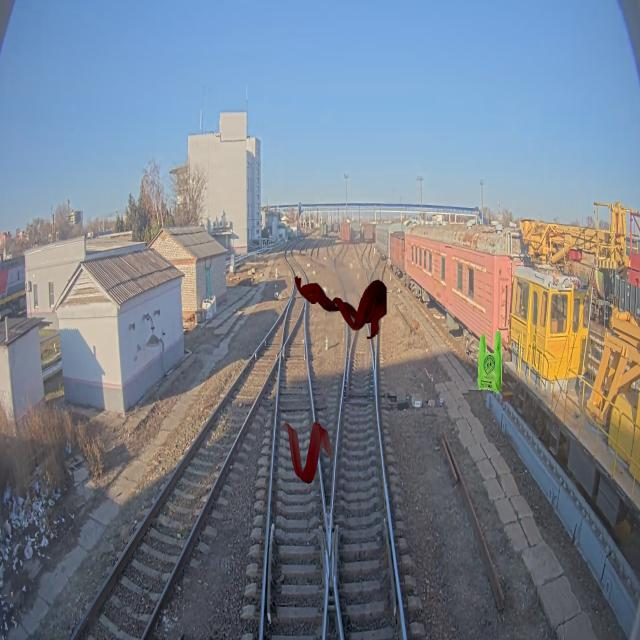balloon: (293, 275, 387, 339)
floating object: (282, 420, 335, 484)
plastic bag: (477, 329, 502, 394)
